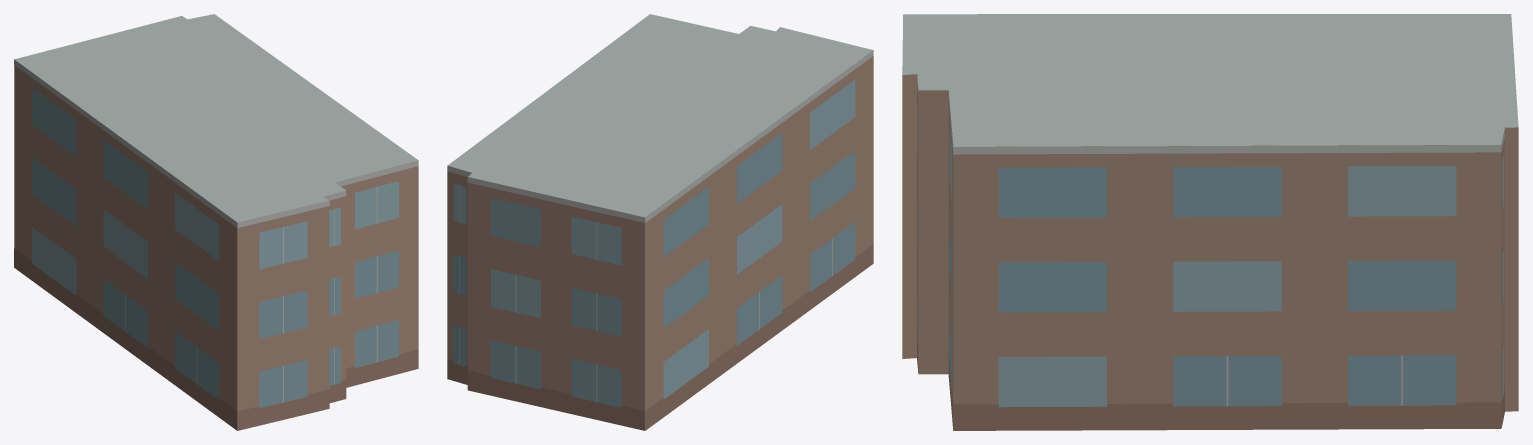
The model's file is survey-upis-32945192.glb.
3 views of the same model, side by side, from view 1: azimuth 30°, elevation 25°; view 2: azimuth 150°, elevation 25°; view 3: azimuth 270°, elevation 25° (orthographic). The views are drawn at different scales.
Parts seen in each view (by area): view 1: survey-upis-32945192.tmp; view 2: survey-upis-32945192.tmp; view 3: survey-upis-32945192.tmp.
Boxes of the visible parts, box(x1,y1,x2,y2) form: survey-upis-32945192.tmp: box(14, 14, 418, 430); survey-upis-32945192.tmp: box(447, 14, 873, 430); survey-upis-32945192.tmp: box(902, 14, 1518, 430).
Bounding box in the file's own units: 9.2 × 9.15 × 18.01.
